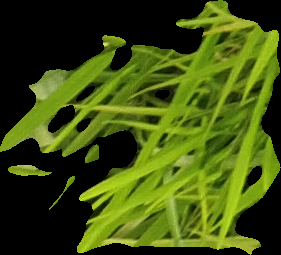grass: (1, 1, 280, 254)
